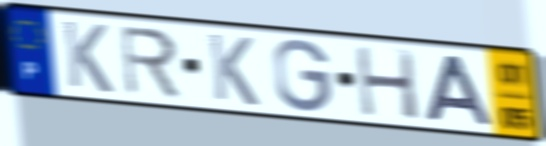A: (422, 52, 495, 128)
G: (271, 37, 334, 114)
H: (351, 43, 423, 122)
K: (59, 17, 116, 96), (205, 30, 261, 109)
R: (116, 23, 184, 100)
